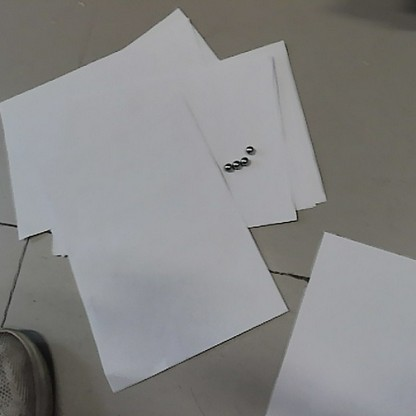ironball: (238, 154, 250, 169), (220, 160, 233, 171), (244, 142, 254, 156), (229, 158, 239, 171)
